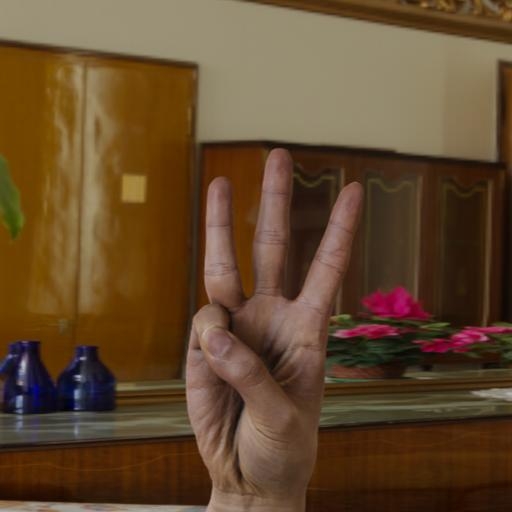W: (178, 143, 368, 512)
